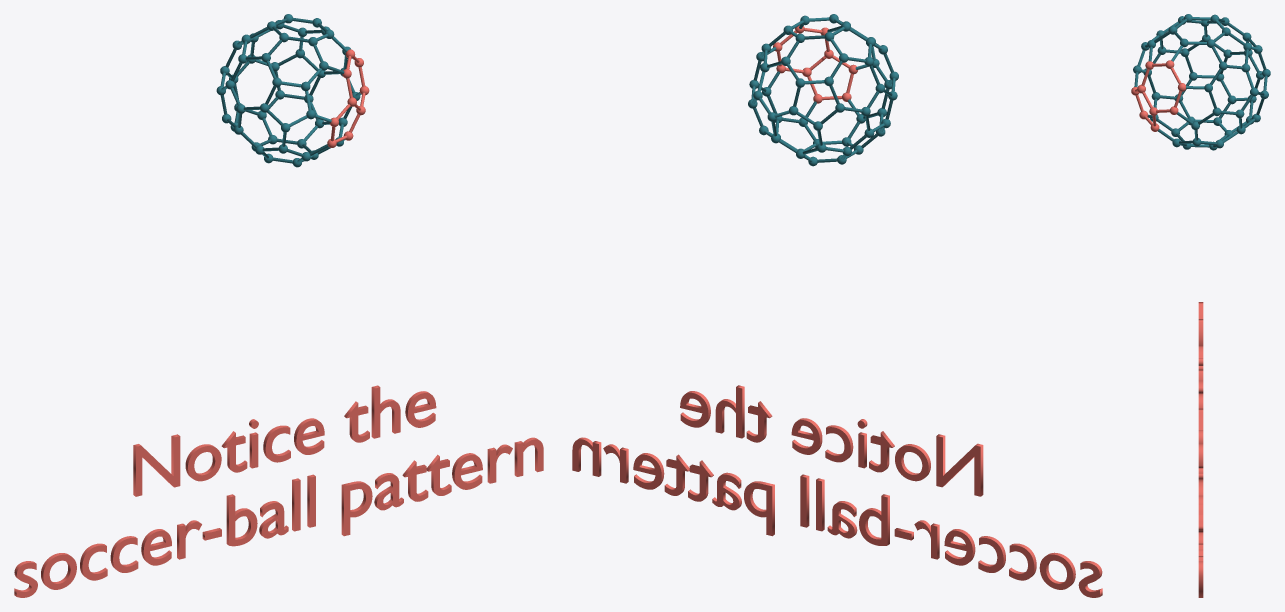
3 renders of one model, left to right at view 1: azimuth 30°, elevation 25°; view 2: azimuth 150°, elevation 25°; view 3: azimuth 270°, elevation 25°, orthographic. The views are drawn at different scales.
Parts seen in each view (by area): view 1: Text, model; view 2: Text, model; view 3: model, Text.
Part boxes in pixels (left/top/right/bottom): Text: left=14, top=385, right=543, bottom=597; model: left=216, top=14, right=369, bottom=167; Text: left=572, top=385, right=1102, bottom=597; model: left=748, top=14, right=898, bottom=166; model: left=1131, top=14, right=1270, bottom=150; Text: left=1198, top=302, right=1203, bottom=597.
Bounding box in the file's own units: 7.52 × 7.14 × 1.88.
